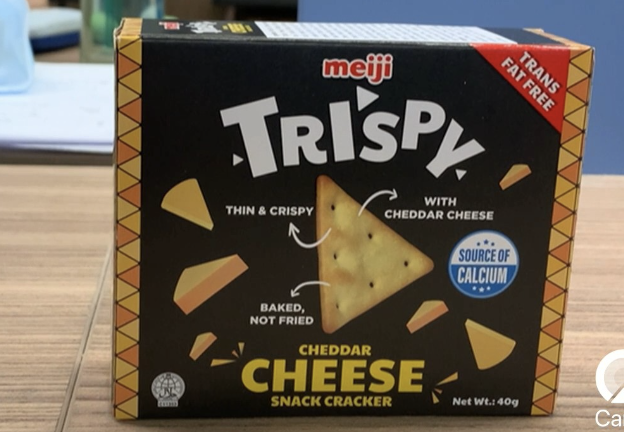crackers_1g-99g: (127, 47, 557, 415)
